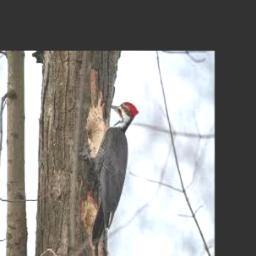Woodpecker: (84, 101, 139, 256)
